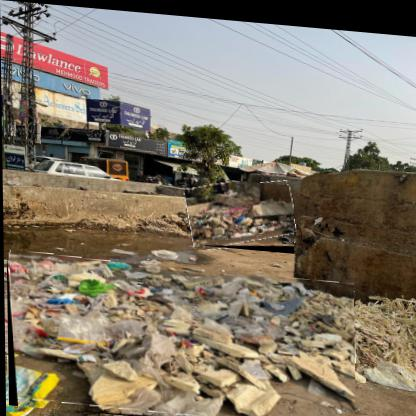Garbage: (7, 253, 358, 416), (186, 174, 296, 251)
